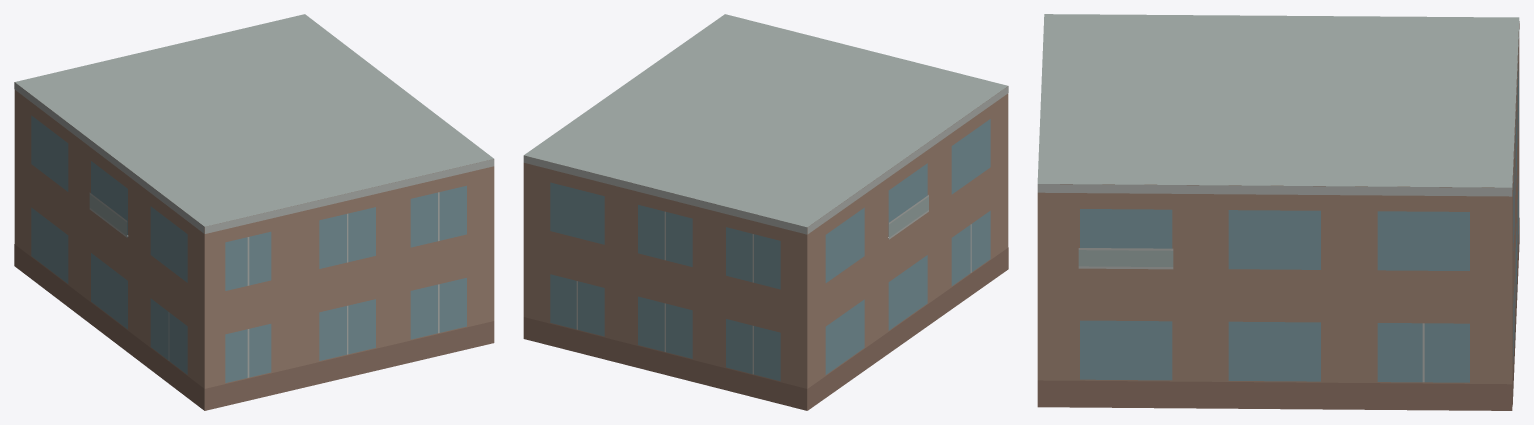
The model's file is survey-upis-32696595.glb.
The picture shows the model from 3 angles, left to right: view 1: azimuth 30°, elevation 25°; view 2: azimuth 150°, elevation 25°; view 3: azimuth 270°, elevation 25°; orthographic projection. The views are drawn at different scales.
Visible parts, largest first — view 1: survey-upis-32696595.tmp; view 2: survey-upis-32696595.tmp; view 3: survey-upis-32696595.tmp.
Boxes of the visible parts, bbox=[...] form: survey-upis-32696595.tmp: bbox=[14, 14, 494, 410]; survey-upis-32696595.tmp: bbox=[523, 14, 1008, 410]; survey-upis-32696595.tmp: bbox=[1037, 14, 1519, 410].
Size of the model in its own units: 10.18 by 6.1 by 11.94.
